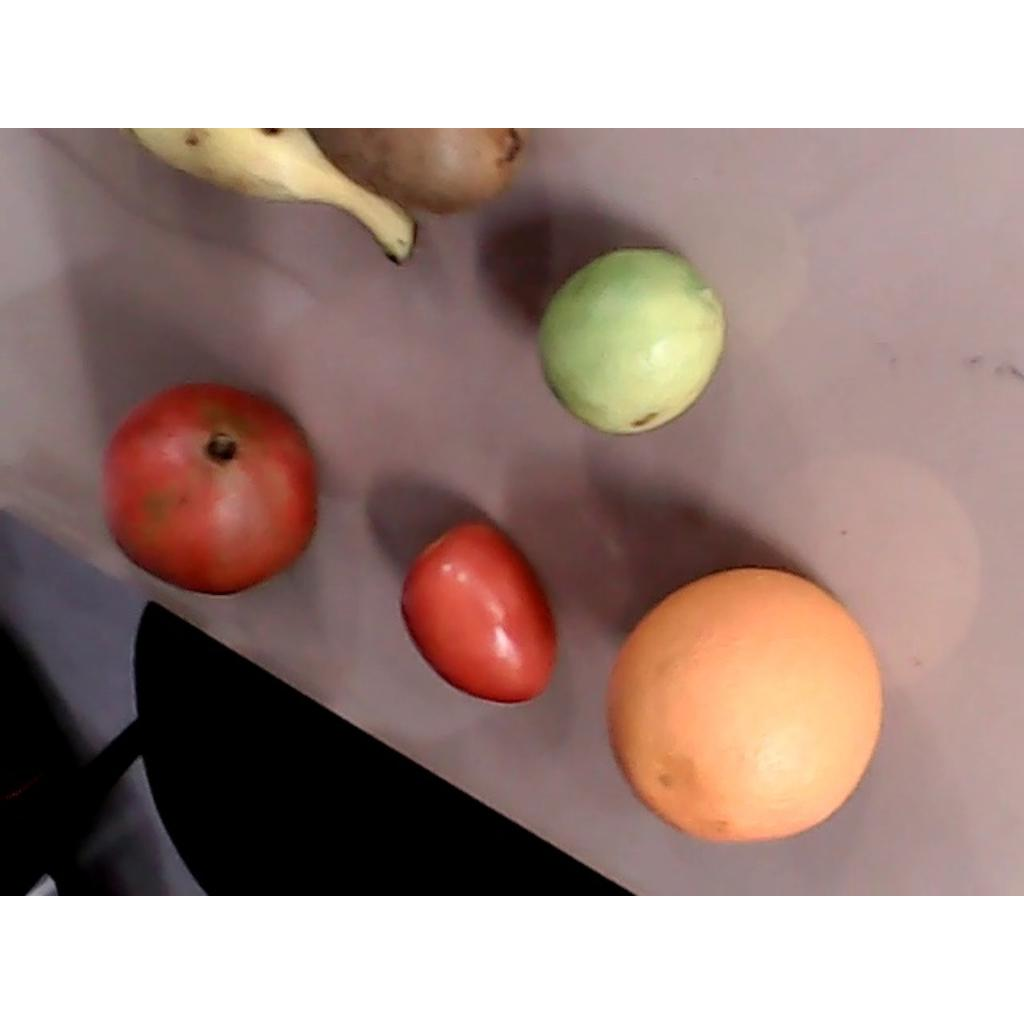kiwi: (308, 128, 529, 209)
lemon: (536, 248, 724, 435)
orange: (601, 567, 885, 843)
pomegranate: (100, 381, 320, 594)
tomato: (399, 519, 559, 707)
